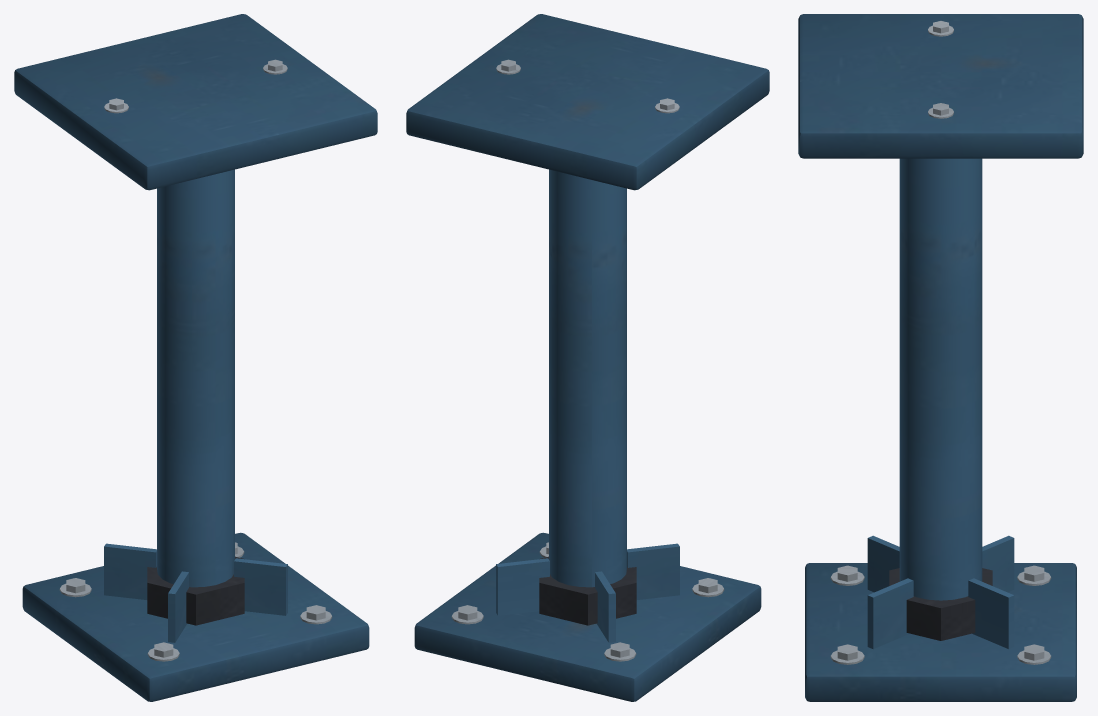
File: ibeam_holder.glb
The picture shows the model from 3 angles, left to right: view 1: azimuth 30°, elevation 25°; view 2: azimuth 150°, elevation 25°; view 3: azimuth 270°, elevation 25°; orthographic projection. The views are drawn at different scales.
Parts seen in each view (by area): view 1: Body.005; view 2: Body.005; view 3: Body.005.
Boxes of the visible parts, bbox=[...] form: Body.005: bbox=[14, 14, 377, 701]; Body.005: bbox=[406, 14, 769, 701]; Body.005: bbox=[798, 14, 1083, 701].
Bounding box in the file's own units: 0.22 × 0.4946 × 0.22.
4 materials, 4 textured.
